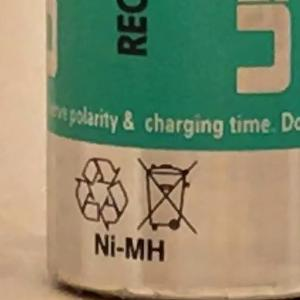NI-MH: (85, 228, 175, 266)
